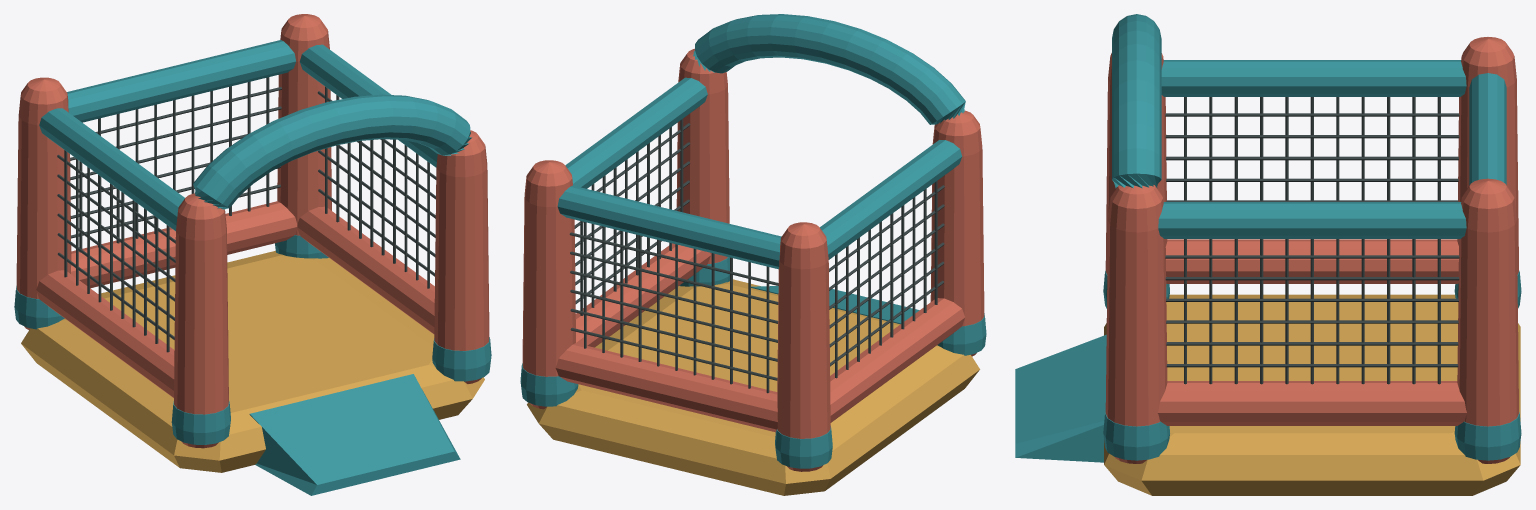
3 views of the same model, side by side, from view 1: azimuth 30°, elevation 25°; view 2: azimuth 150°, elevation 25°; view 3: azimuth 270°, elevation 25° (orthographic). The views are drawn at different scales.
Parts seen in each view (by area): view 1: WholeGroundFootPuffedFloor, WholeGroundFootEntryRamp, WholeFrontOpenEntryArch, WholeRootedPaddedCornerColumn_0, WholeRootedPaddedCornerColumn_1, WholeRootedPaddedCornerColumn_2, WholeUpperPaddedWall_Back, WholeLowerPaddedWall_Left, WholeLowerPaddedWall_Right, WholeRootedPaddedCornerColumn_3, WholeLowerPaddedWall_Back, WholeUpperPaddedWall_Left (+7 smaller); view 2: WholeGroundFootPuffedFloor, WholeFrontOpenEntryArch, WholeRootedPaddedCornerColumn_2, WholeRootedPaddedCornerColumn_3, WholeLowerPaddedWall_Back, WholeRootedPaddedCornerColumn_0, WholeUpperPaddedWall_Back, WholeRootedPaddedCornerColumn_1, WholeLowerPaddedWall_Left, WholeUpperPaddedWall_Left, WholeUpperPaddedWall_Right, WholeLowerPaddedWall_Right (+11 smaller); view 3: WholeGroundFootPuffedFloor, WholeRootedPaddedCornerColumn_3, WholeRootedPaddedCornerColumn_1, WholeLowerPaddedWall_Right, WholeUpperPaddedWall_Right, WholeUpperPaddedWall_Left, WholeLowerPaddedWall_Left, WholeGroundFootEntryRamp, WholeFrontOpenEntryArch, WholeRootedPaddedCornerColumn_2, WholeUpperPaddedWall_Back, WholeColumnFootCuff_1 (+13 smaller).
Part boxes in pixels (box(x1,y1,x2,y2)): WholeGroundFootPuffedFloor: box(21, 251, 484, 472); WholeGroundFootEntryRamp: box(249, 374, 460, 495); WholeFrontOpenEntryArch: box(193, 94, 471, 209); WholeRootedPaddedCornerColumn_0: box(174, 193, 228, 448); WholeRootedPaddedCornerColumn_1: box(434, 130, 489, 383); WholeRootedPaddedCornerColumn_2: box(16, 77, 71, 329); WholeUpperPaddedWall_Back: box(67, 40, 296, 122); WholeLowerPaddedWall_Left: box(36, 270, 174, 397); WholeLowerPaddedWall_Right: box(297, 206, 434, 334); WholeRootedPaddedCornerColumn_3: box(277, 14, 331, 235); WholeLowerPaddedWall_Back: box(71, 201, 297, 288); WholeUpperPaddedWall_Left: box(39, 108, 184, 231); WholeGroundFootPuffedFloor: box(527, 279, 979, 495); WholeFrontOpenEntryArch: box(693, 14, 965, 124); WholeRootedPaddedCornerColumn_2: box(777, 222, 830, 471); WholeRootedPaddedCornerColumn_3: box(522, 160, 575, 409); WholeLowerPaddedWall_Back: box(555, 343, 777, 432); WholeRootedPaddedCornerColumn_0: box(930, 110, 984, 356); WholeUpperPaddedWall_Back: box(557, 185, 781, 269); WholeRootedPaddedCornerColumn_1: box(676, 48, 729, 263); WholeLowerPaddedWall_Left: box(830, 298, 965, 422); WholeUpperPaddedWall_Left: box(820, 140, 962, 259); WholeUpperPaddedWall_Right: box(565, 77, 707, 188); WholeLowerPaddedWall_Right: box(575, 243, 710, 347); WholeGroundFootPuffedFloor: box(1104, 294, 1520, 495); WholeRootedPaddedCornerColumn_3: box(1457, 178, 1518, 463); WholeRootedPaddedCornerColumn_1: box(1105, 185, 1167, 463); WholeLowerPaddedWall_Right: box(1157, 381, 1466, 425); WholeUpperPaddedWall_Right: box(1158, 202, 1466, 238); WholeUpperPaddedWall_Left: box(1161, 60, 1466, 96); WholeLowerPaddedWall_Left: box(1165, 239, 1458, 283); WholeGroundFootEntryRamp: box(1015, 334, 1106, 462); WholeFrontOpenEntryArch: box(1112, 14, 1161, 188); WholeRootedPaddedCornerColumn_2: box(1457, 37, 1518, 274); WholeUpperPaddedWall_Back: box(1469, 73, 1506, 184); WholeColumnFootCuff_1: box(1103, 412, 1169, 460).
Bounding box in the file's own units: 2.59 × 2.65 × 3.26.
